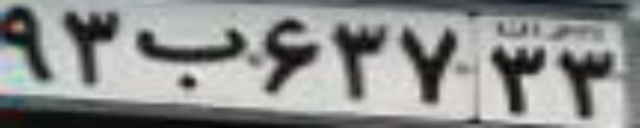3: (556, 47, 622, 117), (488, 41, 551, 114), (60, 9, 119, 86), (333, 20, 390, 98)
6: (259, 17, 327, 94)
7: (398, 26, 468, 104)
9: (0, 5, 55, 82)
be: (133, 26, 245, 91)
